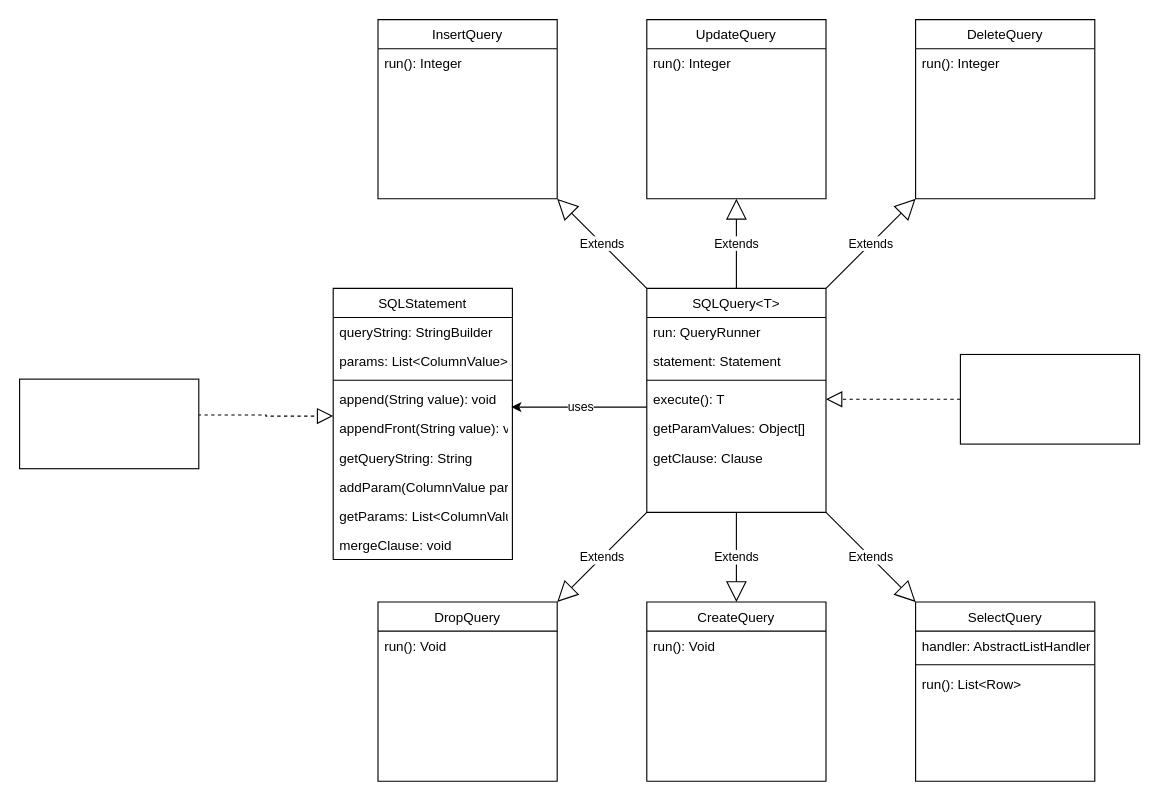
This 1159x801 diagram has some shape labels left out. Here are the shapes that lost their labels. From the top down, the centre of each, then its label:
At (1049,398): "«interface» Query<T>".
At (108,423): "«interface» Statement".
